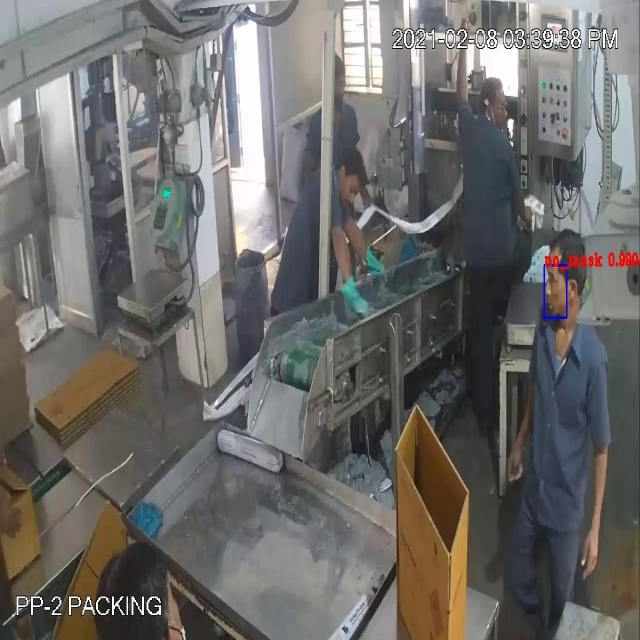Guantes: (332, 230, 379, 331)
Sin_guantes: (578, 422, 612, 594), (508, 337, 539, 492), (450, 20, 473, 111)
